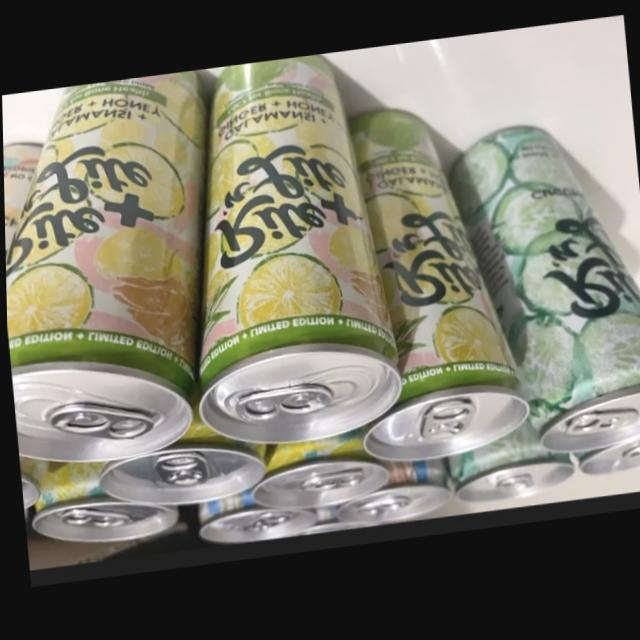metal: (195, 58, 402, 448), (4, 72, 204, 462), (449, 130, 640, 460), (349, 112, 527, 466), (87, 409, 264, 507), (86, 408, 263, 506), (29, 462, 176, 544), (247, 432, 391, 514), (441, 426, 571, 509), (334, 464, 448, 526), (196, 493, 315, 546), (571, 442, 640, 483)
